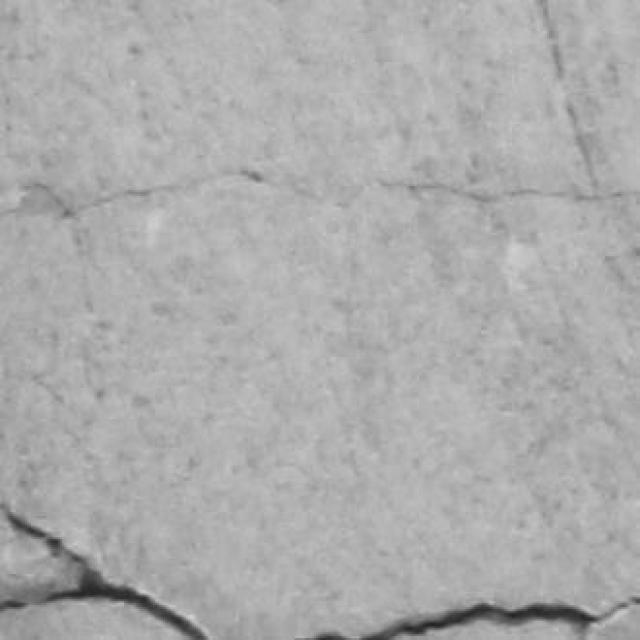crack: (0, 505, 209, 639), (24, 169, 321, 221), (305, 598, 639, 639), (536, 0, 599, 191), (377, 181, 639, 205)
